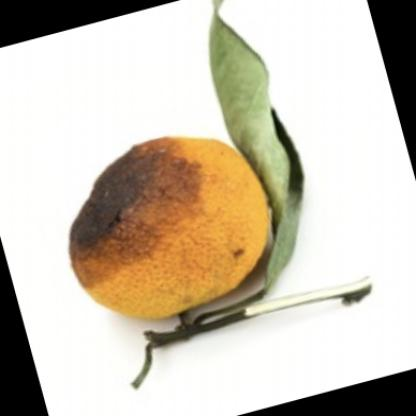rotten_orange: (61, 119, 295, 326)
